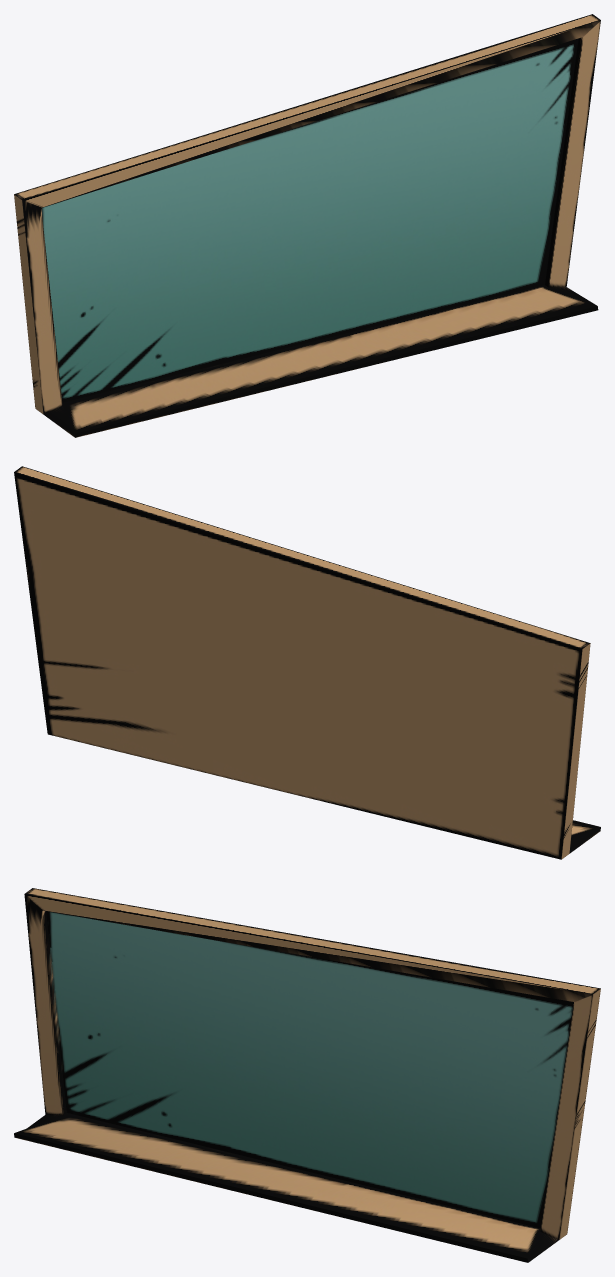
Rendered from chalkboard.obj.
3 renders of one model, top to bottom at view 1: azimuth 30°, elevation 25°; view 2: azimuth 150°, elevation 25°; view 3: azimuth 330°, elevation 25°, orthographic.
Visible parts, largest first — view 1: pCube1; view 2: pCube1; view 3: pCube1.
Part boxes in pixels (x1=…): pCube1: x1=14, y1=14, x2=600, y2=437; pCube1: x1=14, y1=466, x2=600, y2=859; pCube1: x1=14, y1=888, x2=600, y2=1262.
Size of the model in its own units: 12.04 by 5.14 by 1.44.
